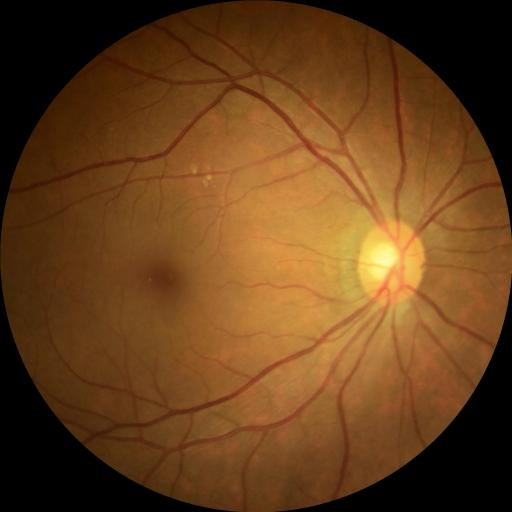Optic Cup: (371, 243, 403, 284)
Optic Disc: (358, 222, 424, 303)
